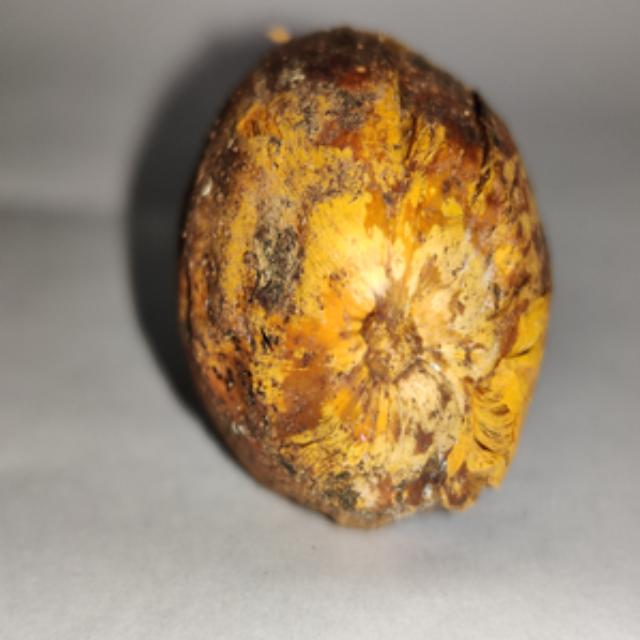damaged: (176, 26, 554, 533)
